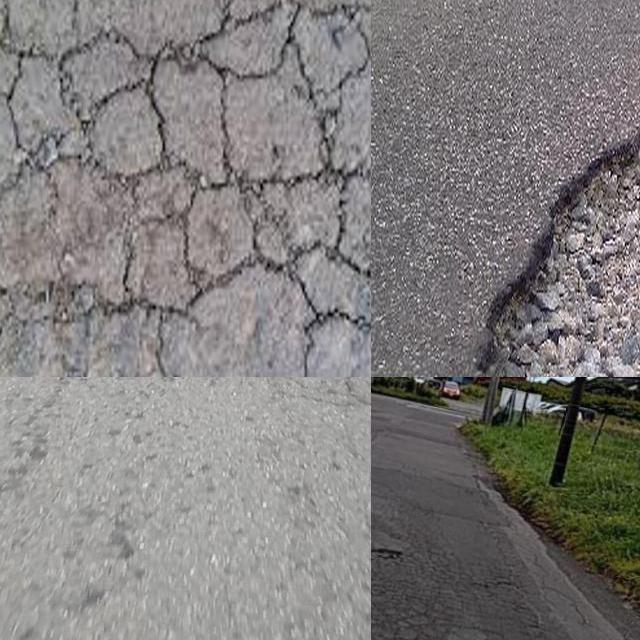Lubang: (489, 134, 640, 377)
Retak Buaya: (0, 0, 371, 377), (371, 536, 541, 640)
